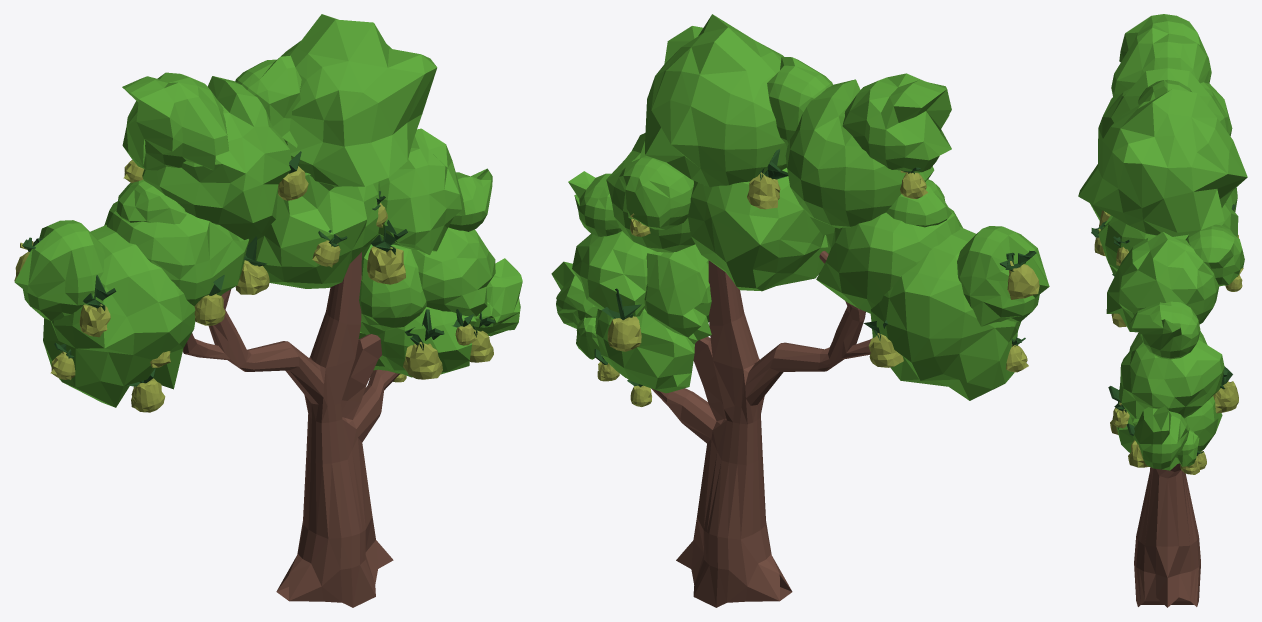
Rendered from 3D_POHON LIMAU.fbx.
The picture shows the model from 3 angles, left to right: view 1: azimuth 30°, elevation 25°; view 2: azimuth 150°, elevation 25°; view 3: azimuth 270°, elevation 25°; orthographic projection. The views are drawn at different scales.
Visible parts, largest first — view 1: tree leaf, tree bark, LIME.006, LIME.008, LIME.005, LIME.002, LIME.003, LIME.004, LIME.001, LIME.007, lime.003; view 2: tree leaf, tree bark, LIME.013, LIME.010, lime.006, LIME.012; view 3: tree leaf, tree bark, LIME.013, LIME.007, LIME.009.
Part boxes in pixels (x1,y1,x2,y2): tree leaf: [14, 14, 522, 407]; tree bark: [183, 252, 399, 607]; LIME.006: [367, 220, 407, 284]; LIME.008: [403, 309, 444, 379]; LIME.005: [79, 275, 116, 337]; LIME.002: [235, 236, 269, 294]; LIME.003: [127, 368, 165, 412]; LIME.004: [194, 275, 225, 325]; LIME.001: [278, 151, 308, 200]; LIME.007: [469, 312, 495, 362]; lime.003: [312, 230, 347, 267]; tree leaf: [551, 14, 1049, 400]; tree bark: [651, 251, 872, 607]; LIME.013: [602, 288, 641, 351]; LIME.010: [747, 149, 788, 209]; lime.006: [999, 250, 1039, 299]; LIME.012: [863, 320, 903, 367]; tree leaf: [1078, 14, 1247, 470]; tree bark: [1134, 463, 1200, 607]; LIME.013: [1213, 366, 1238, 413]; LIME.007: [1126, 423, 1149, 467]; LIME.009: [1112, 402, 1129, 428].
Bounding box in the file's own units: 388 × 423 × 127.
